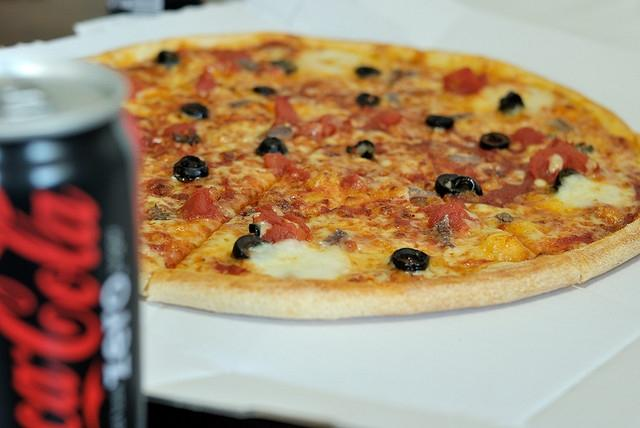tomato: (528, 138, 600, 186), (414, 202, 484, 231), (177, 188, 222, 220), (442, 66, 488, 96), (507, 126, 549, 150), (261, 222, 308, 242), (272, 97, 300, 129), (318, 114, 352, 137), (263, 152, 292, 176), (129, 74, 157, 98), (253, 204, 284, 225), (162, 120, 196, 138), (371, 110, 403, 126), (340, 174, 368, 192), (212, 49, 250, 62), (197, 68, 217, 92), (295, 124, 321, 138)
